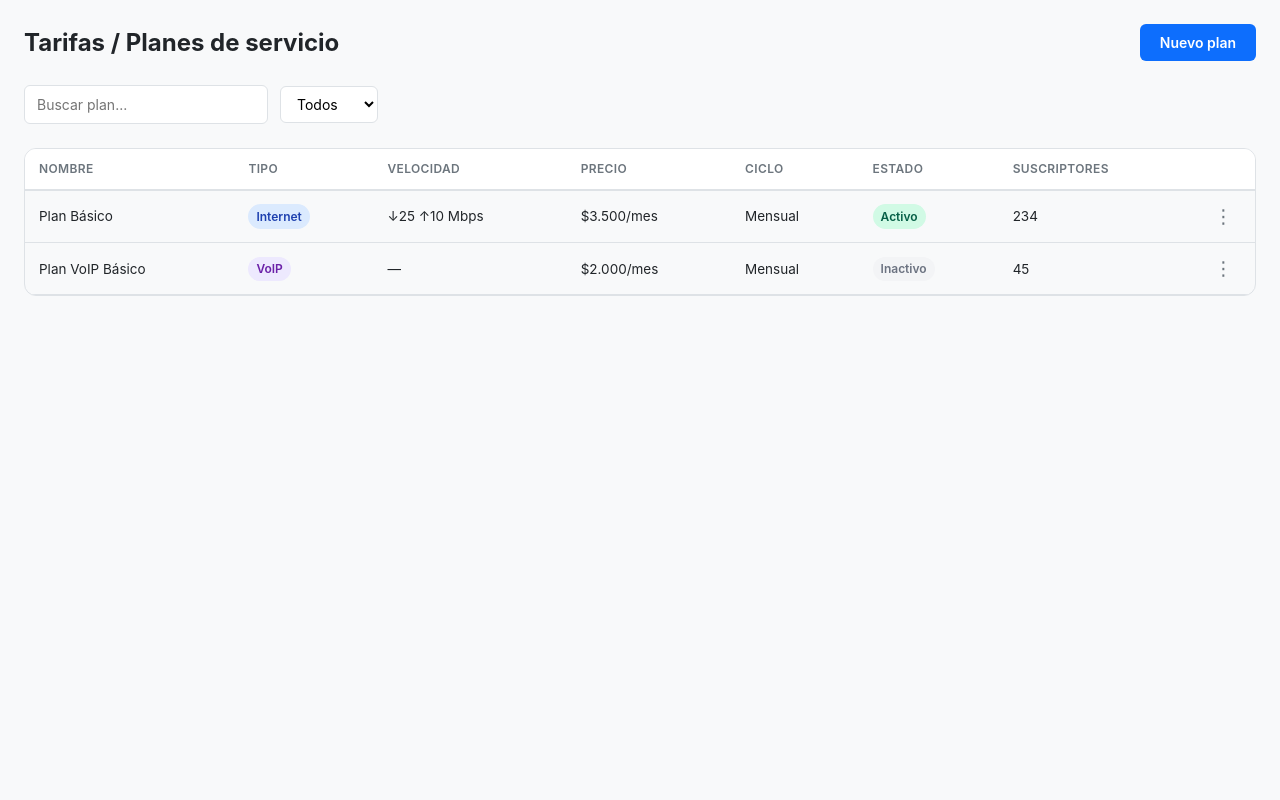
Scenario: TariffsPage › clicking "Editar" on a plan opens form with plan name
// Click the KebabMenu (Acciones) for first row
Click the button named "Acciones": (1223, 217) [1206, 203, 1241, 230]
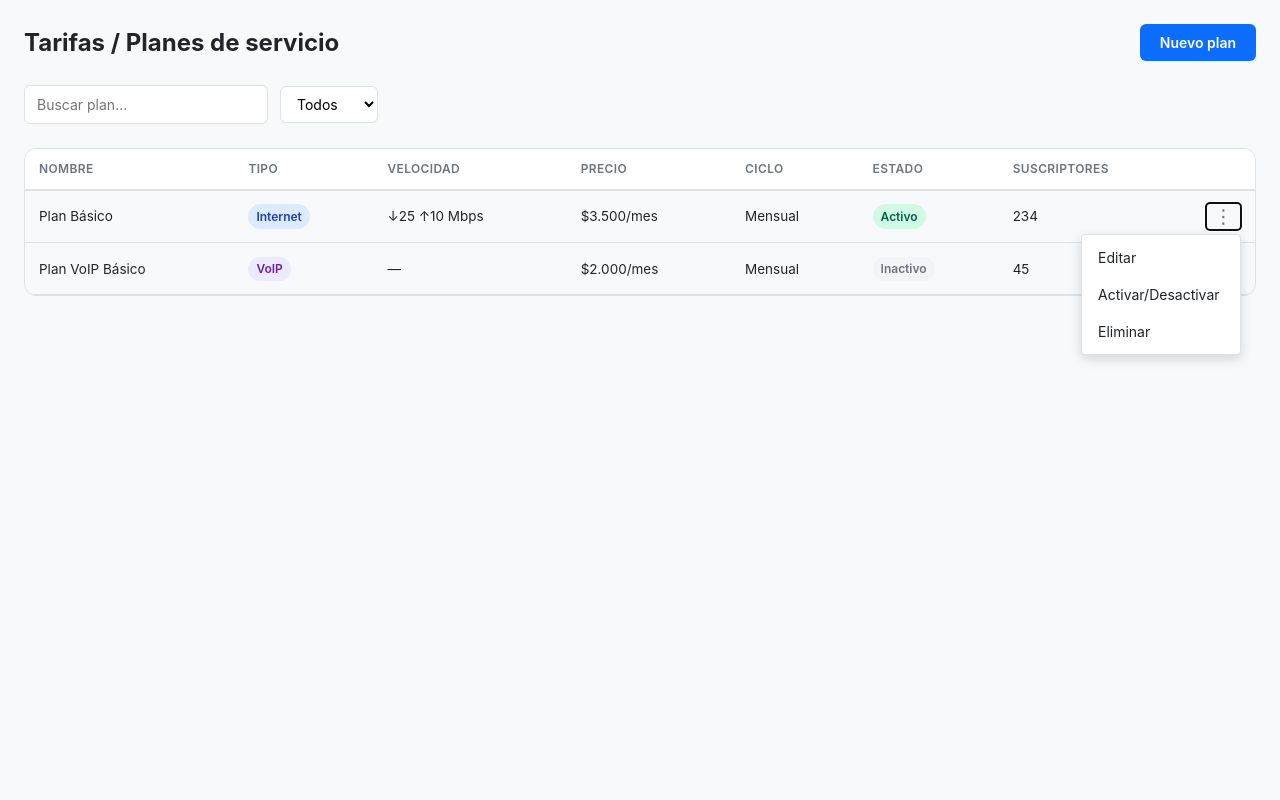
// Click Editar menu item
Click the menu item "Editar": (1161, 258) [1082, 239, 1240, 276]
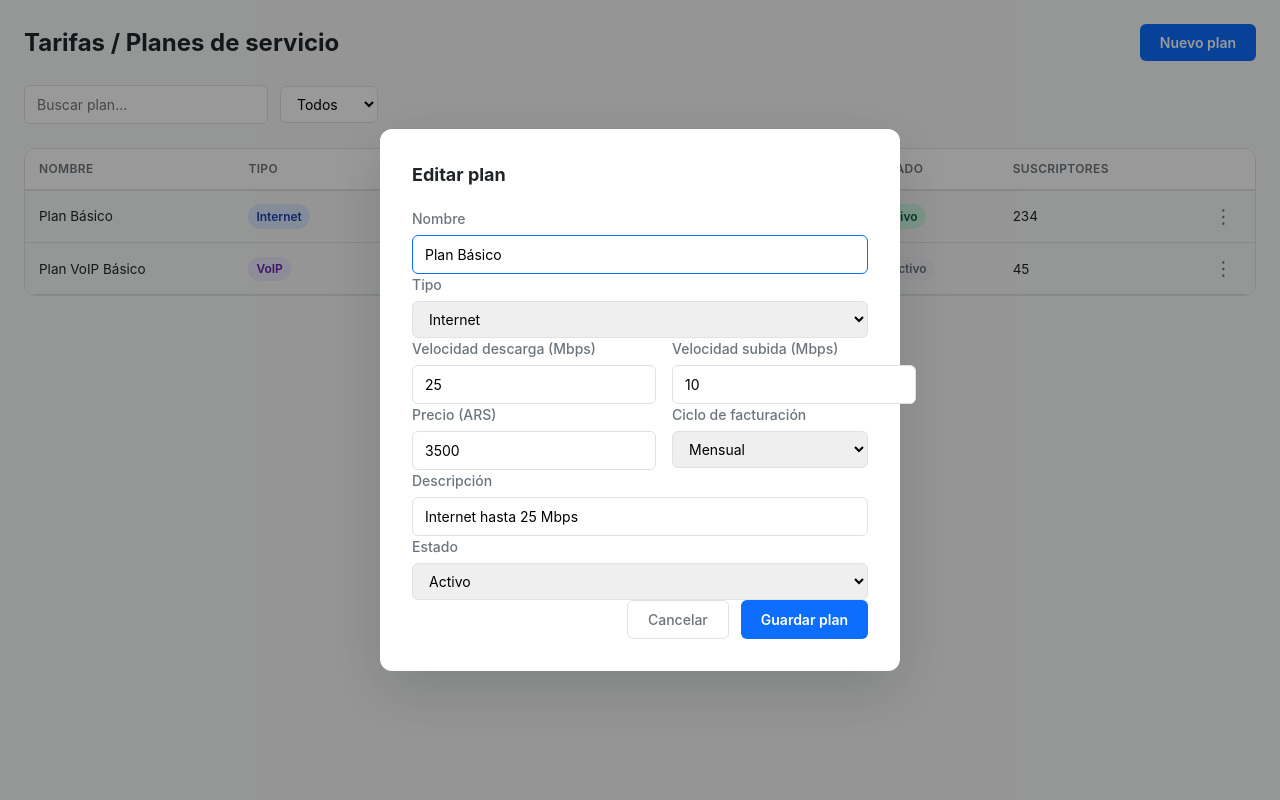
Now the field labelled "Nombre" holds "Plan Básico", box [412, 235, 868, 274]
